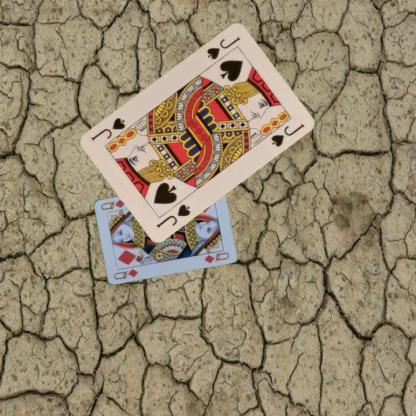Js: (153, 201, 192, 229), (204, 34, 242, 61)
Qd: (111, 266, 139, 281)
